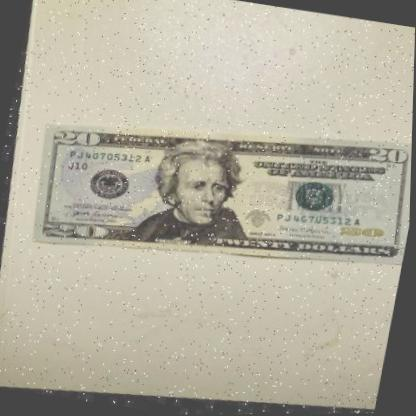twenty-front: (21, 93, 414, 301)
